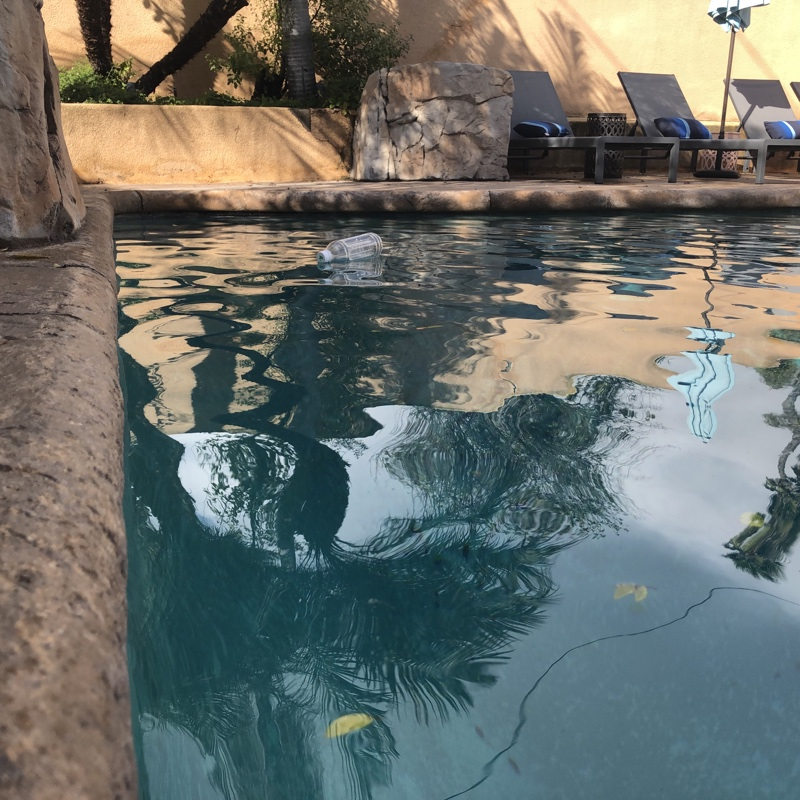Plastic Bottle: (310, 230, 387, 269)
